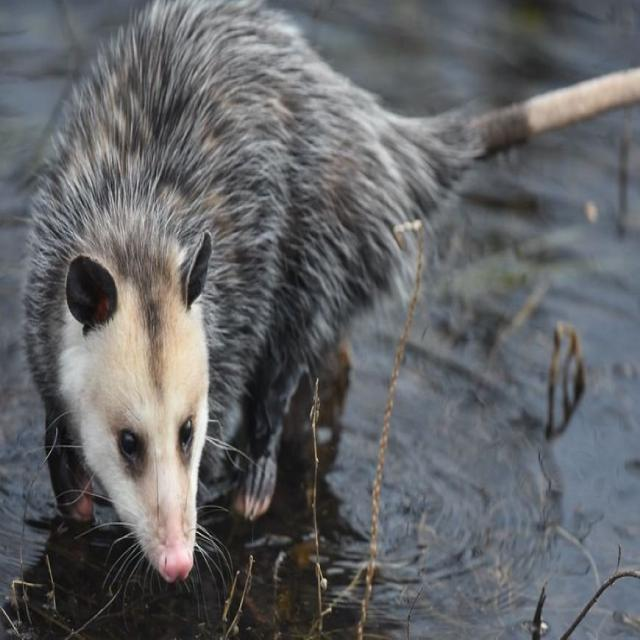Possum: (21, 0, 639, 579)
